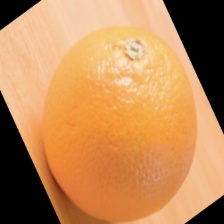orange: (3, 26, 192, 215)
